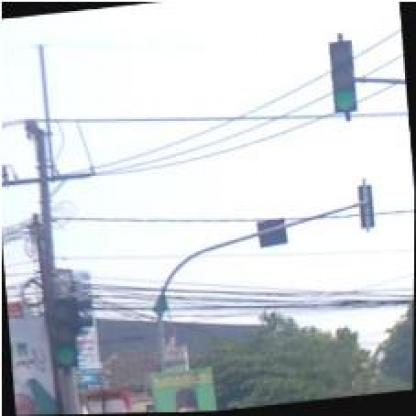green: (48, 296, 80, 371), (327, 38, 358, 112)
